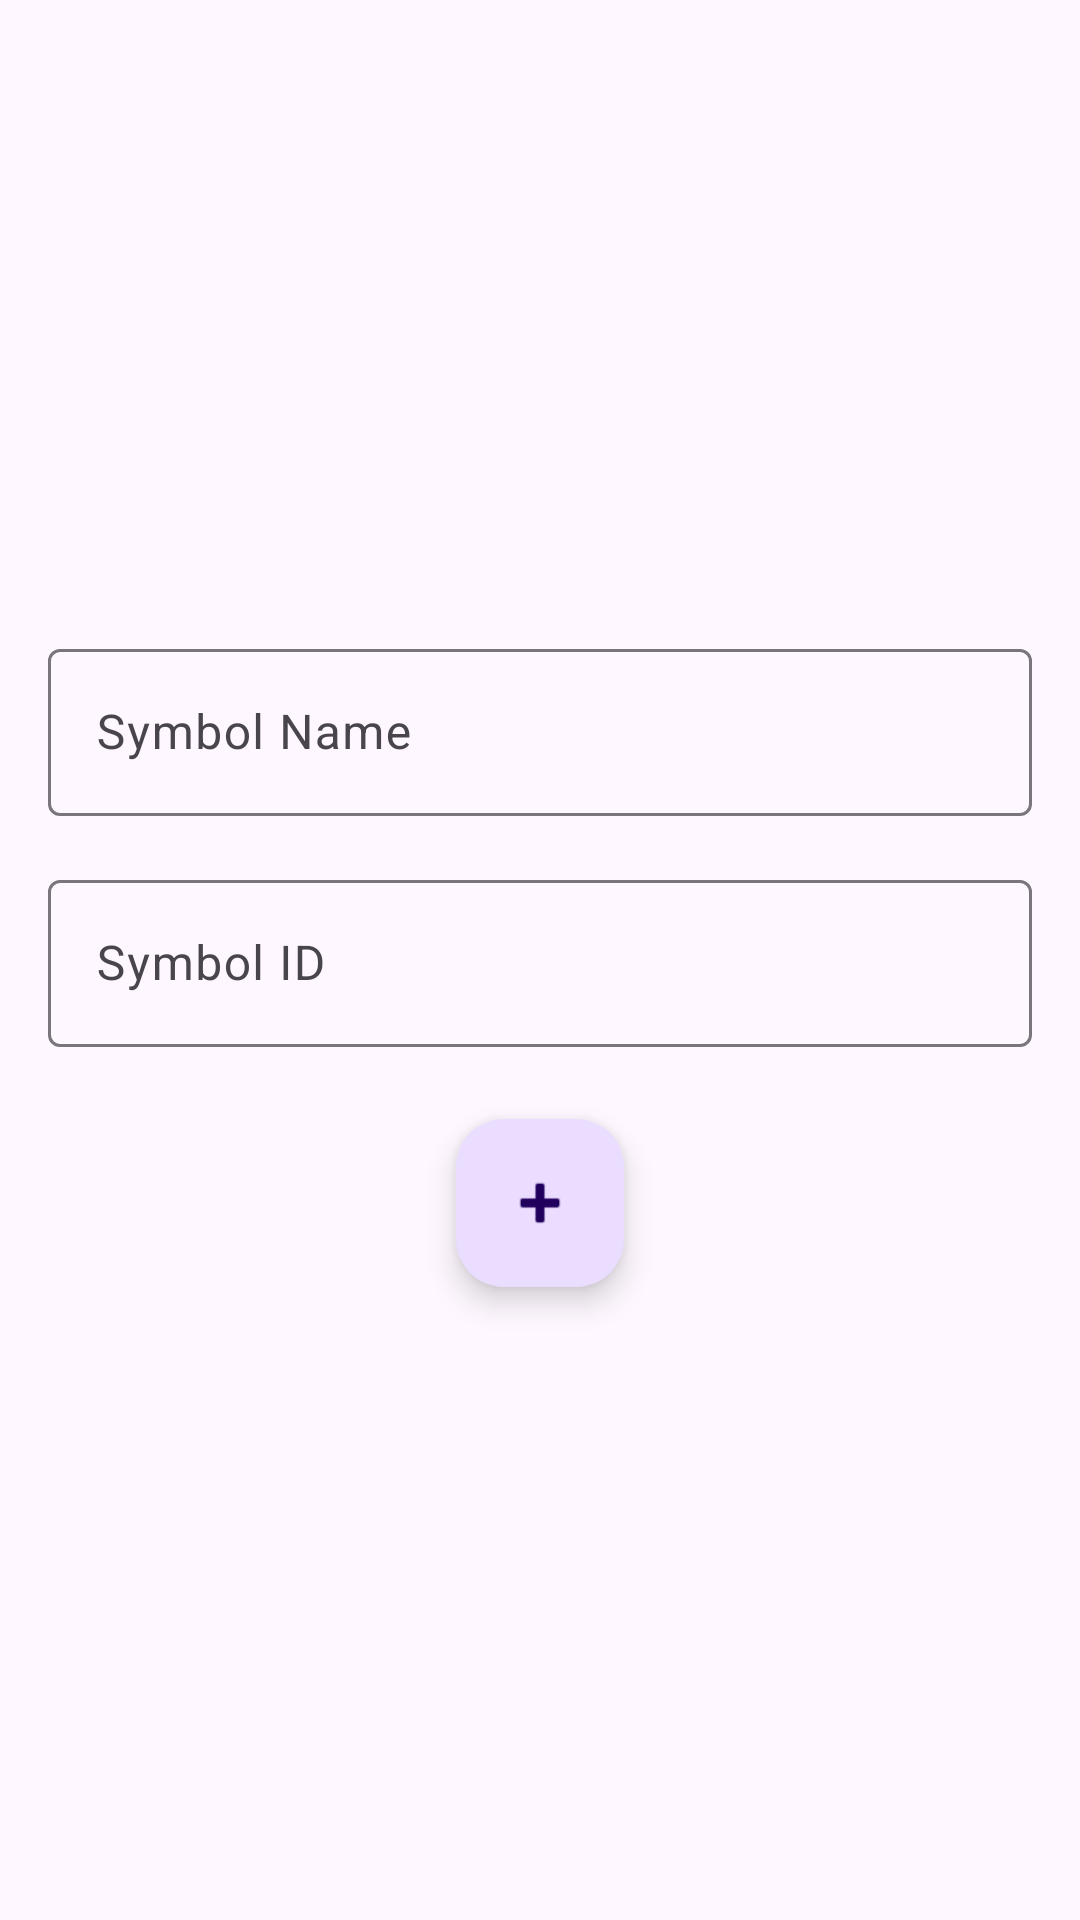

Point at icon controls on the screen. Image size 1080px x 1920px, points as (x=x, y=y).
Add symbol: (x=540, y=1203)
